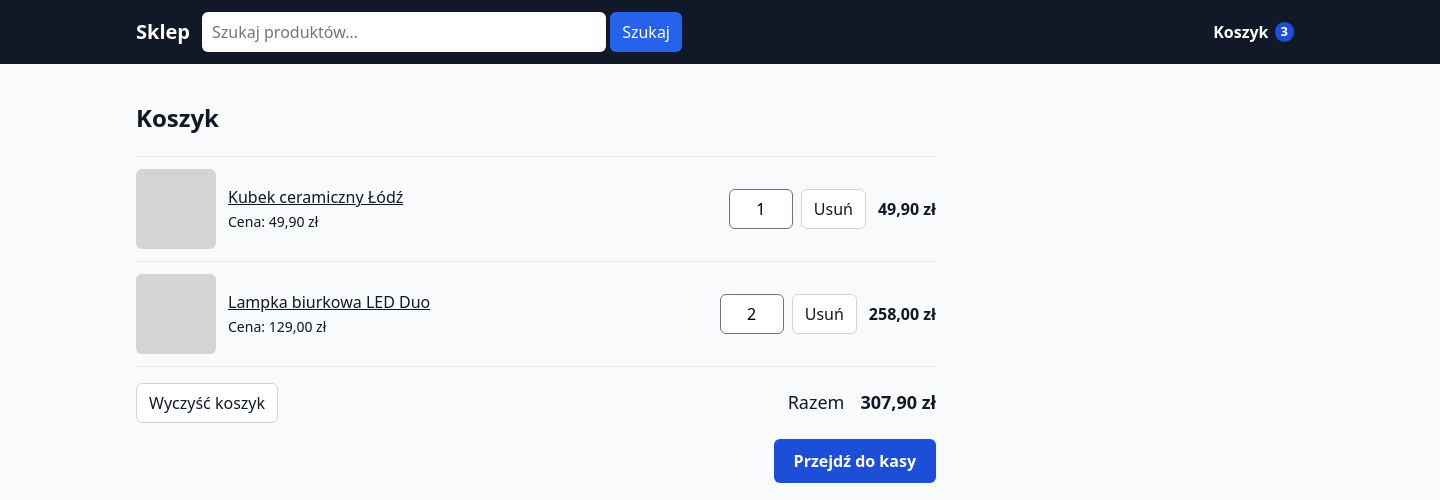
Test: cart page › clears the cart
Click the button "Wyczyść koszyk": click(207, 403) [136,383,278,423]
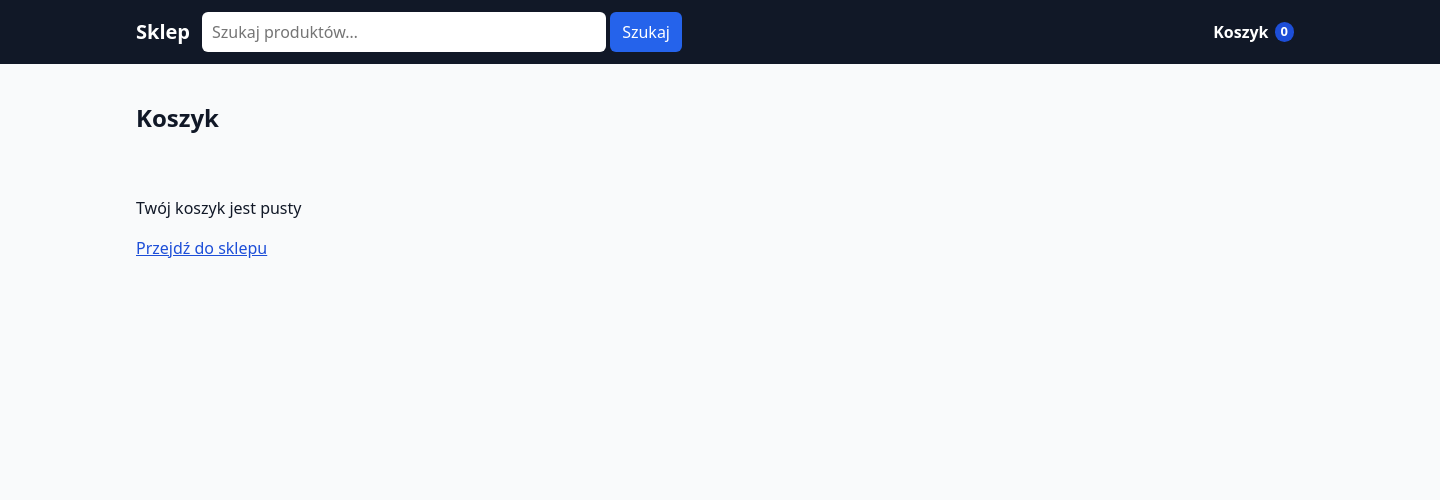
Expected: the text "Twój koszyk jest pusty" is shown, [136,197,302,219]
